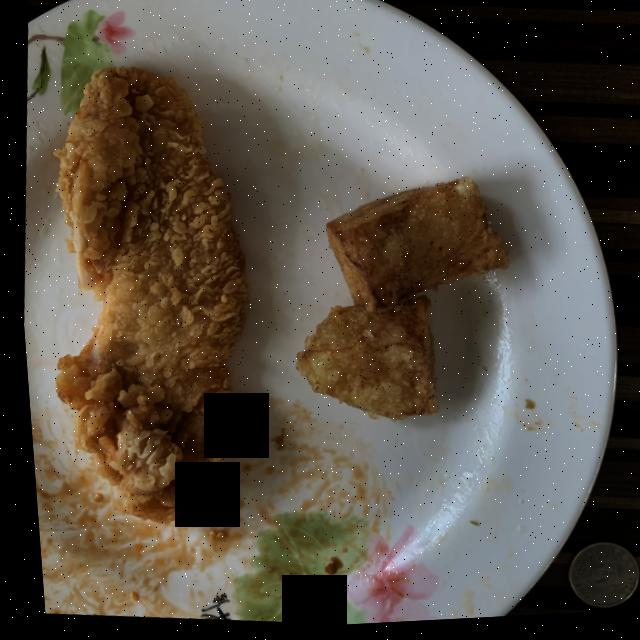coin: (557, 547, 628, 614)
fried chicken cutlet: (49, 68, 242, 523)
fried potato: (289, 182, 503, 423)
